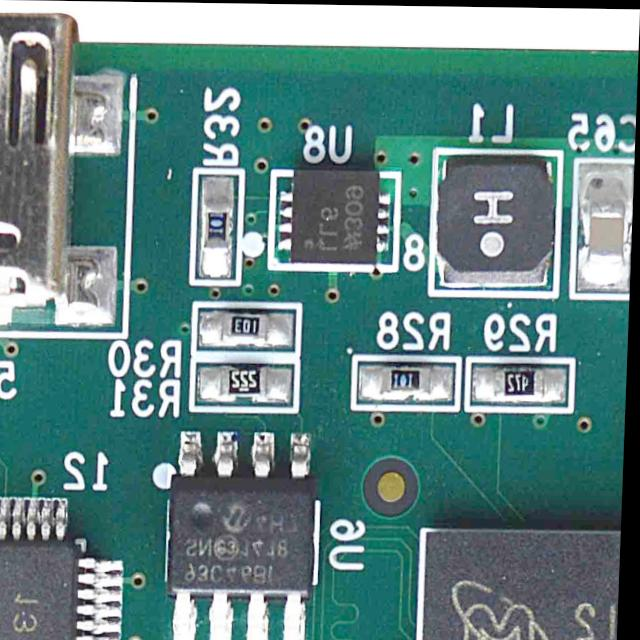IC: (163, 424, 330, 640), (424, 528, 625, 640), (0, 495, 128, 640), (271, 167, 406, 274)
capacitor: (572, 160, 636, 297)
component text: (185, 505, 310, 586), (316, 178, 371, 255), (0, 559, 51, 640), (464, 595, 547, 640), (574, 585, 623, 640), (470, 183, 524, 225), (234, 366, 264, 389), (507, 370, 534, 391), (235, 316, 263, 335), (210, 208, 229, 235), (396, 369, 420, 390)
connector: (0, 11, 138, 335)
inductor: (433, 148, 569, 297)
resistor: (192, 167, 250, 280), (356, 352, 464, 411), (195, 355, 299, 413), (195, 302, 302, 357), (467, 356, 577, 407)
